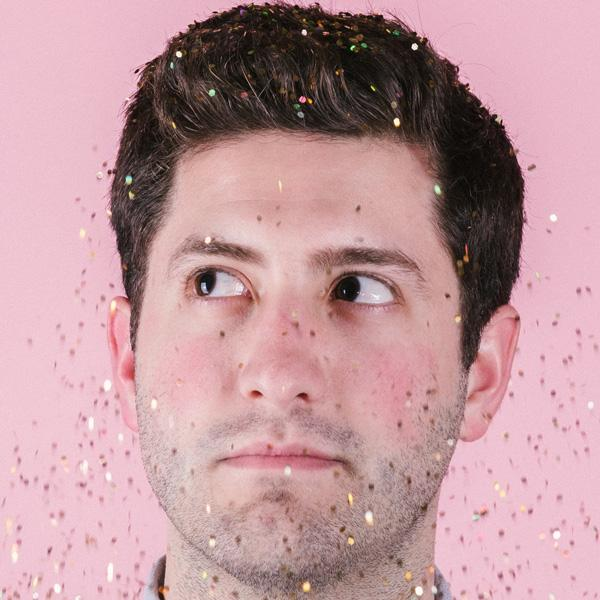Eyes: (316, 265, 419, 319), (174, 258, 264, 318)
